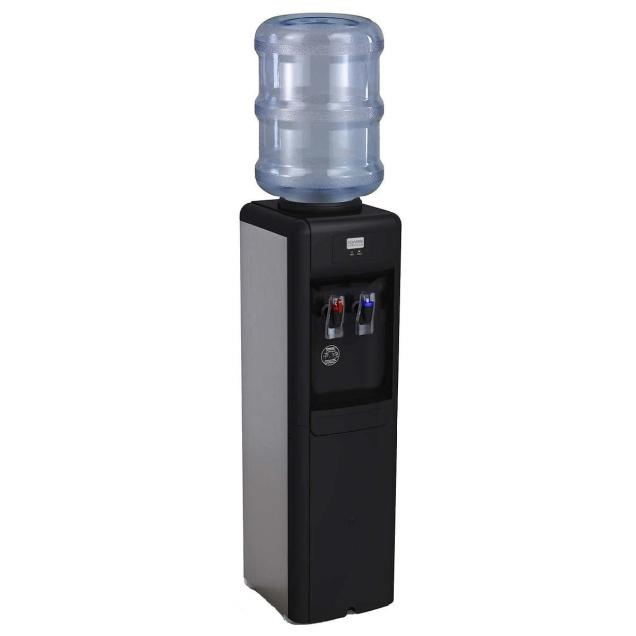Dispenser: (239, 11, 401, 625)
